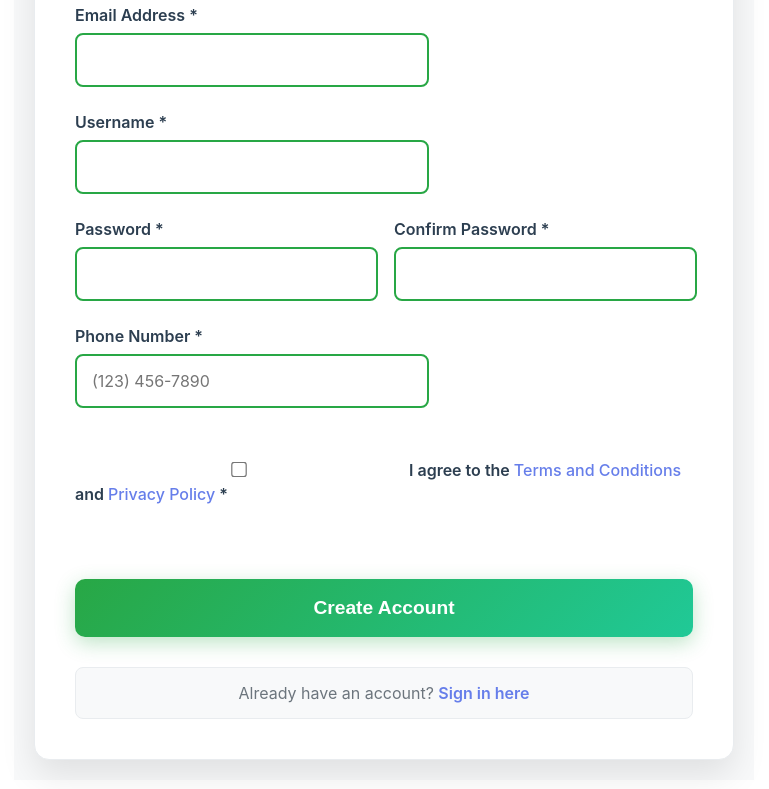
Test: Signup Component › shows validation errors for empty required fields
The width and height of the screenshot is (769, 789).
(page scrolled)
Click the button "Create Account" at (384, 608), box [75, 579, 693, 637]
(page scrolled)
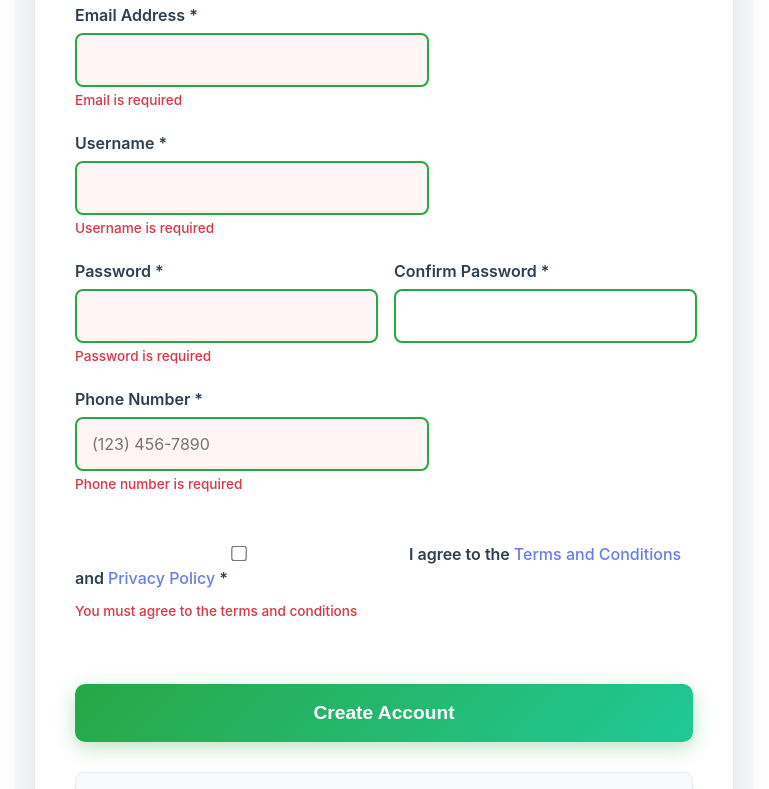
Check: the text "Email is required" is shown, box [75, 92, 182, 108]
Check: the text "Username is required" is shown, box [75, 220, 214, 236]
Check: the text "Password is required" is shown, box [75, 348, 211, 364]
